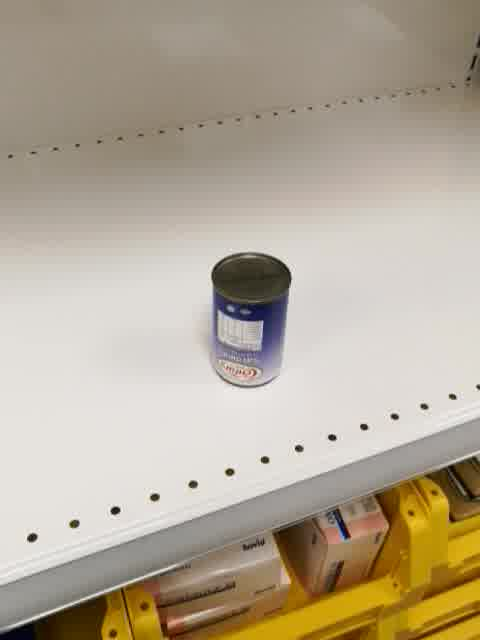sardine: (209, 250, 293, 389)
